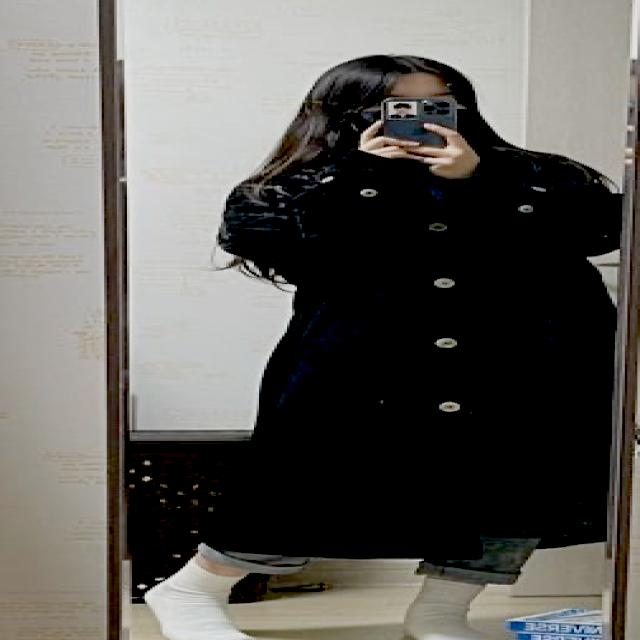coat: (199, 138, 609, 556)
